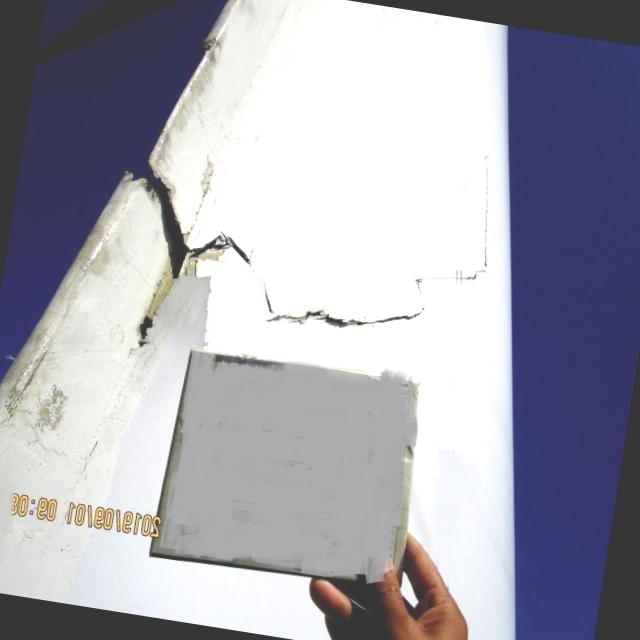crack: (90, 155, 248, 353), (235, 235, 480, 352), (462, 152, 512, 267)
